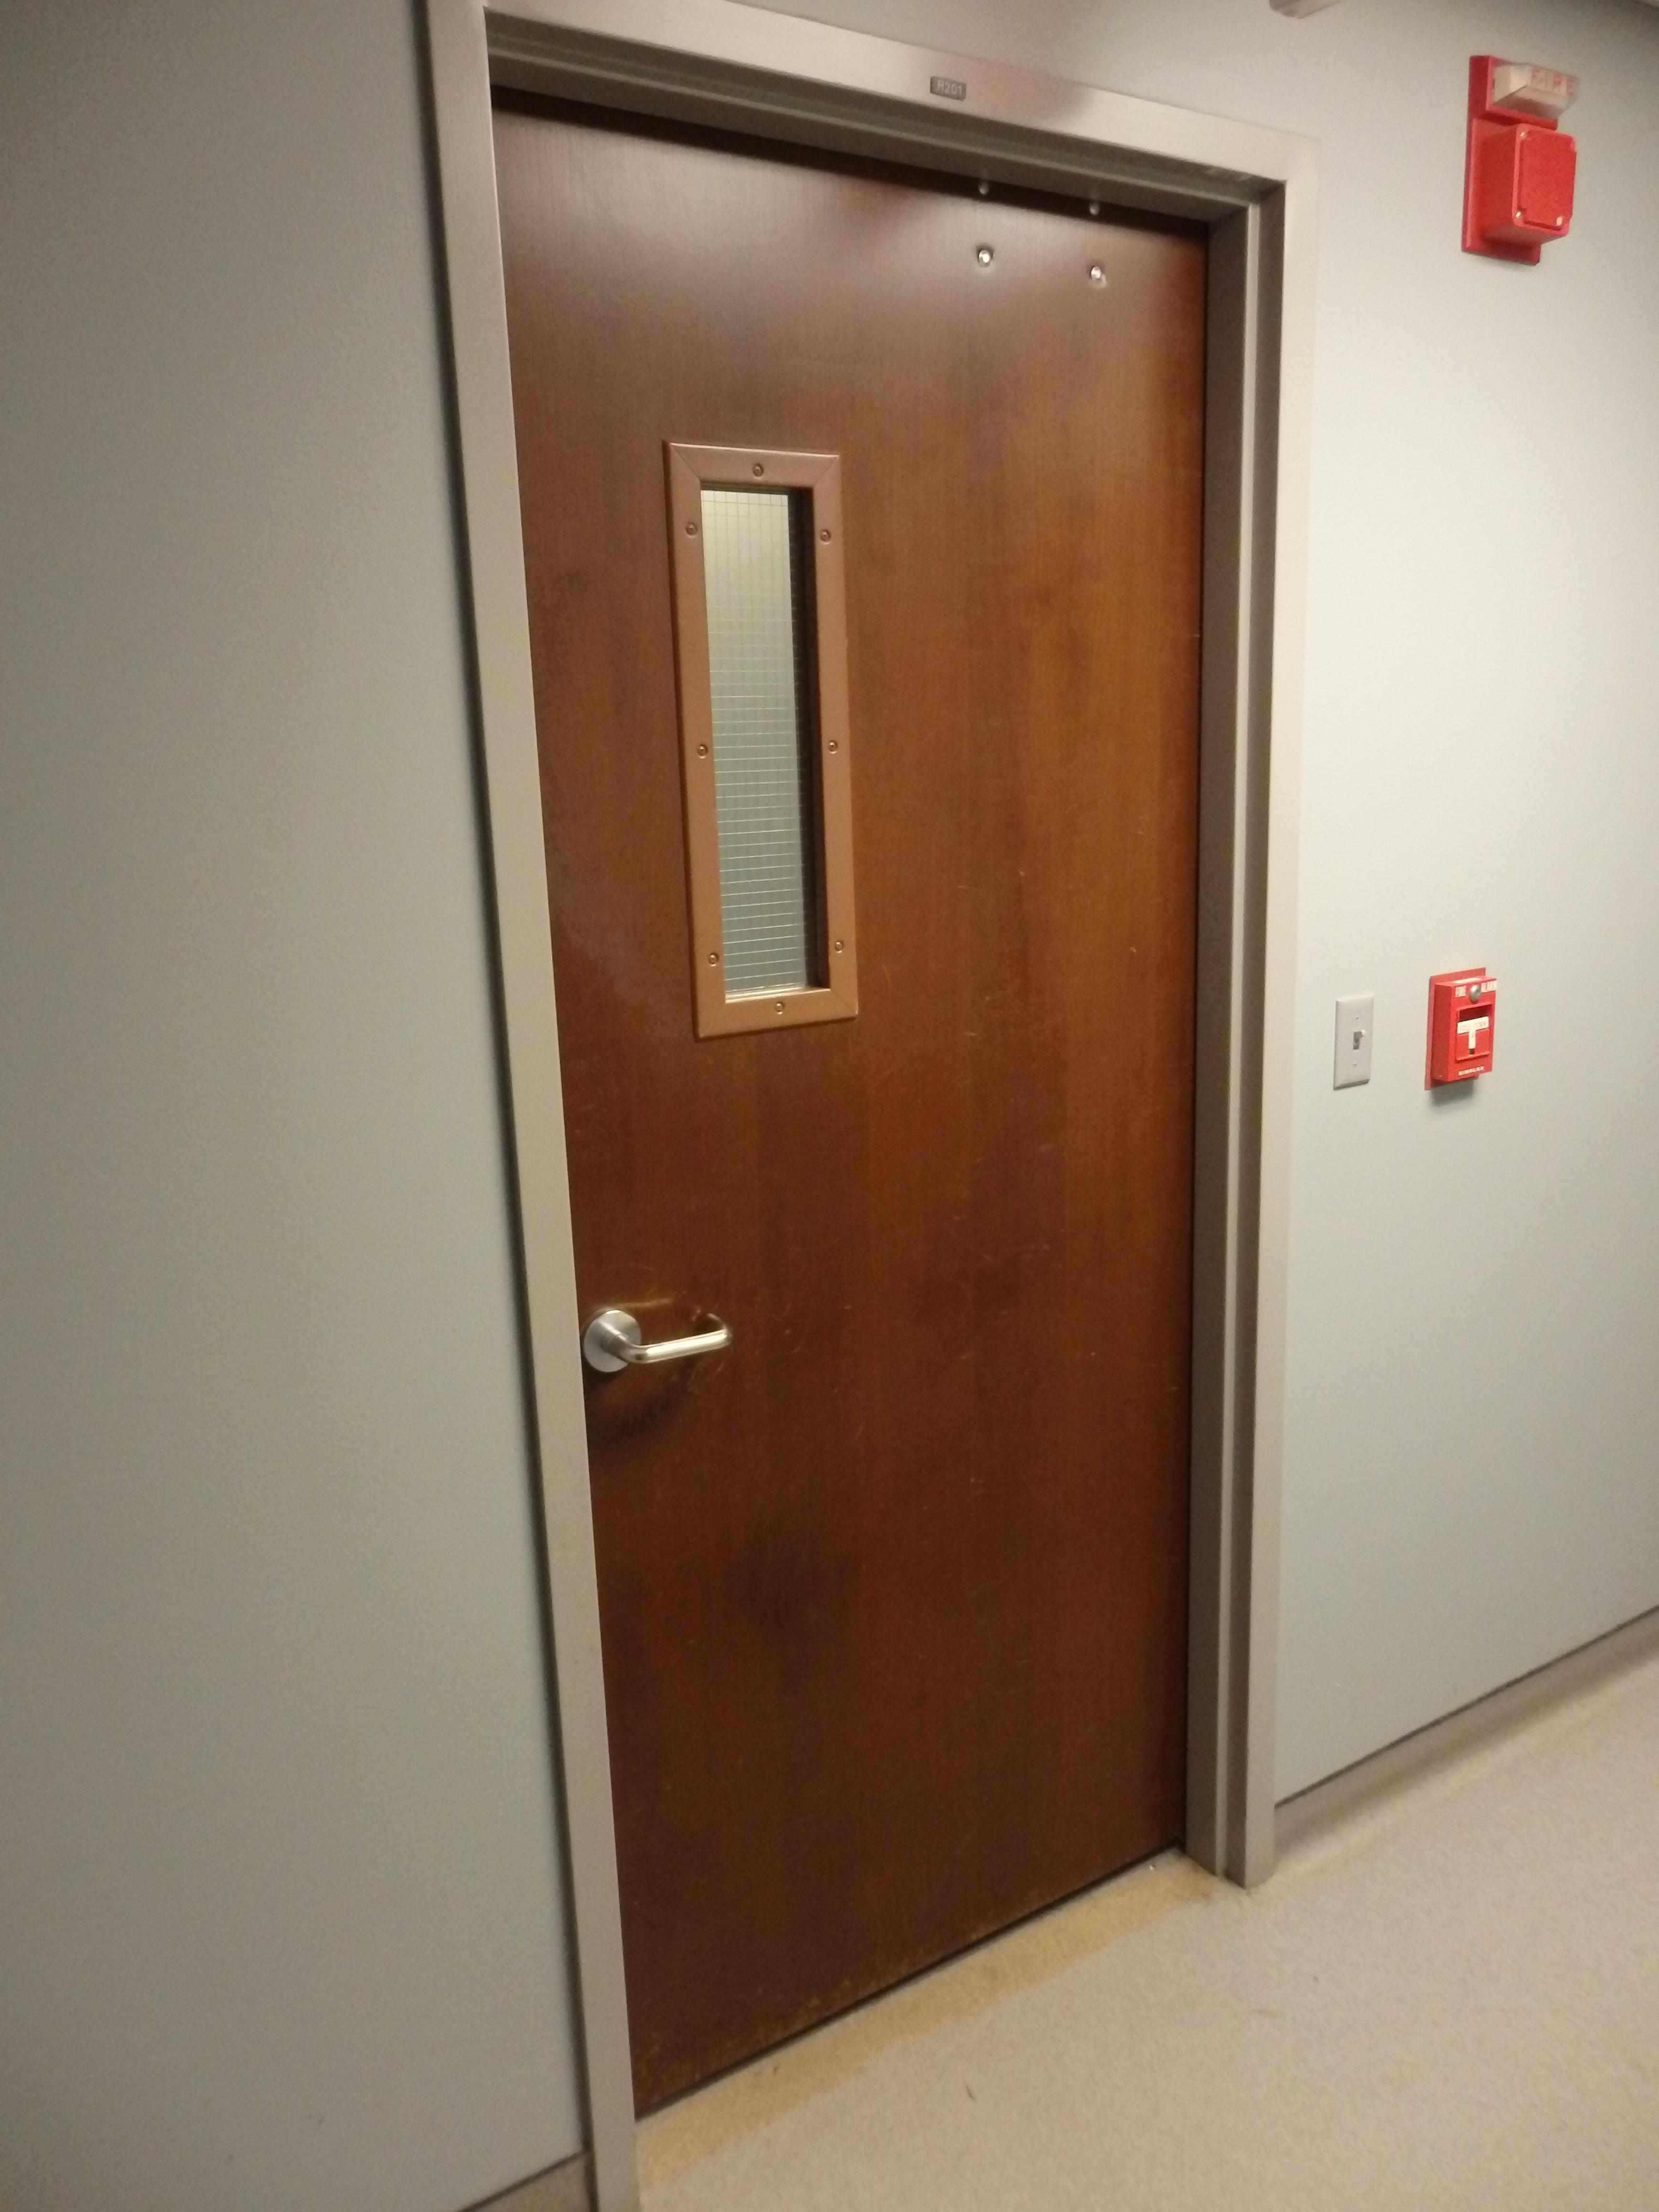door: (582, 197, 1187, 1918)
handle: (599, 1282, 741, 1404)
